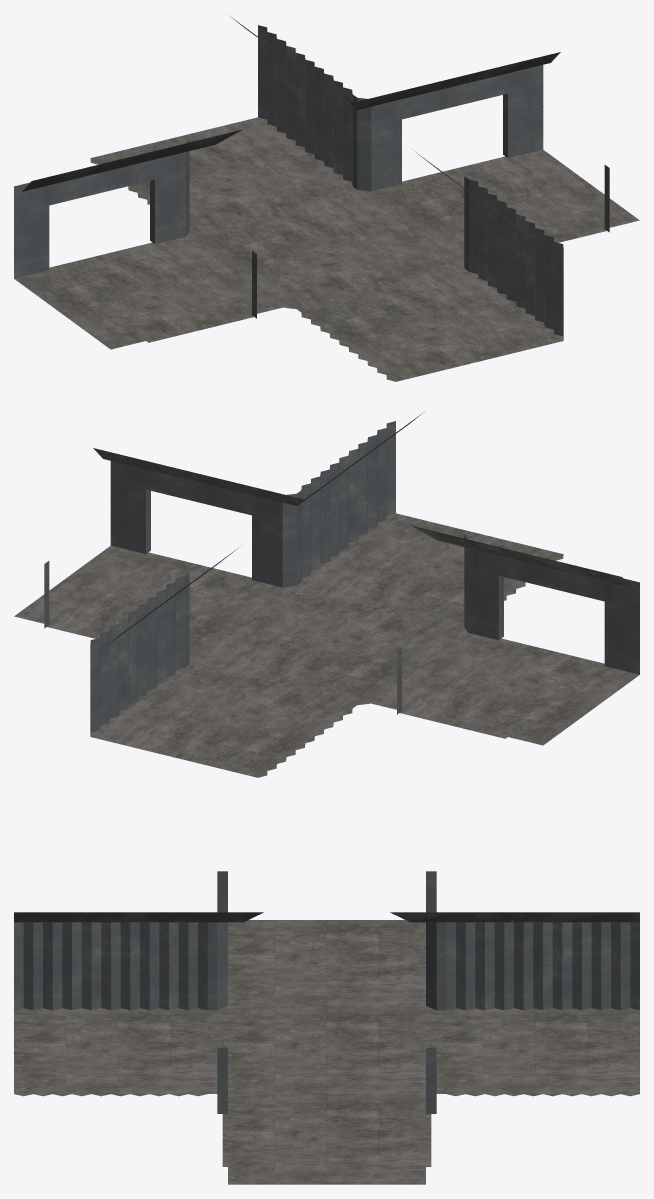
The model's file is hallway_plus.glb.
3 views of the same model, one above another, from view 1: azimuth 30°, elevation 25°; view 2: azimuth 150°, elevation 25°; view 3: azimuth 270°, elevation 25° (orthographic). The views are drawn at different scales.
Parts seen in each view (by area): view 1: PlusShapeHallway -col; view 2: PlusShapeHallway -col; view 3: PlusShapeHallway -col.
Boxes of the visible parts, x1,y1,x2,y2 form: PlusShapeHallway -col: (14,16,639,381); PlusShapeHallway -col: (14,412,639,777); PlusShapeHallway -col: (14,871,639,1184).
Size of the model in its own units: 30 by 6 by 30.
Materials: 3 (3 with a texture image).
